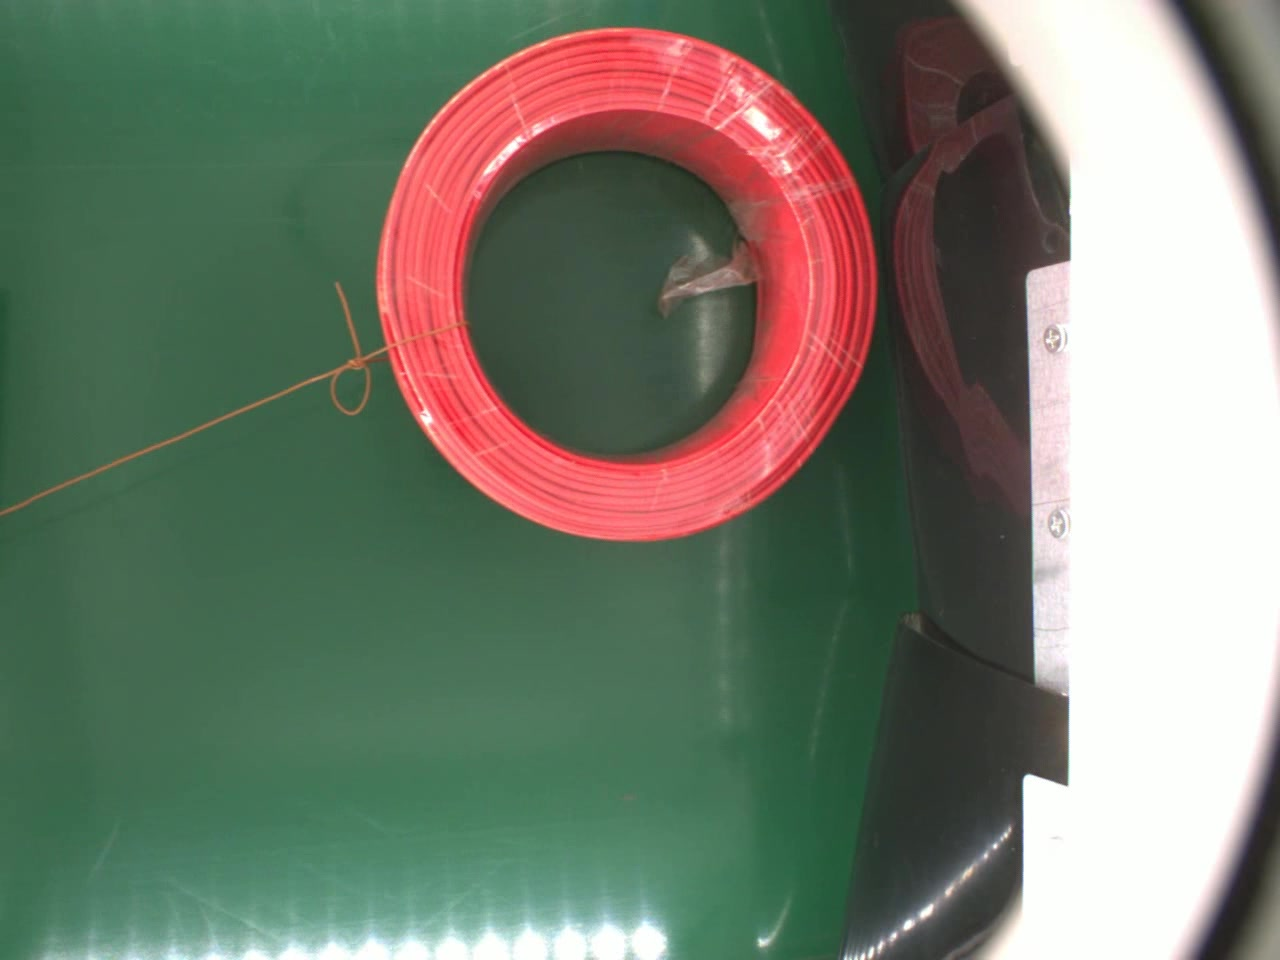red: (373, 21, 886, 545)
